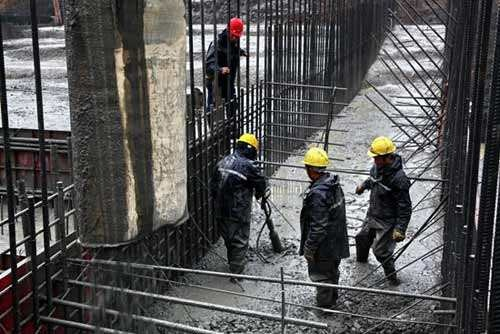red: (224, 15, 244, 44)
yellow: (367, 133, 394, 170), (302, 146, 330, 180), (234, 131, 260, 161)
